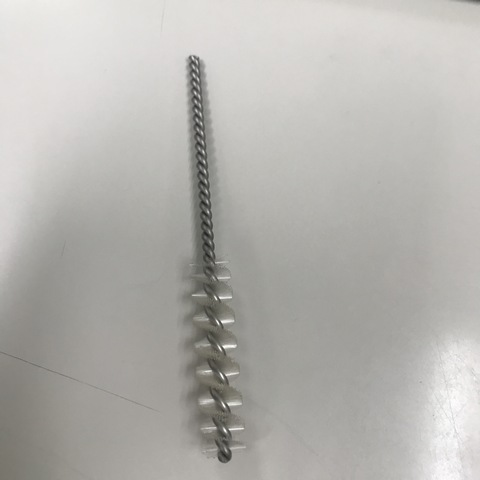Twist Brush-B: (176, 53, 254, 472)
